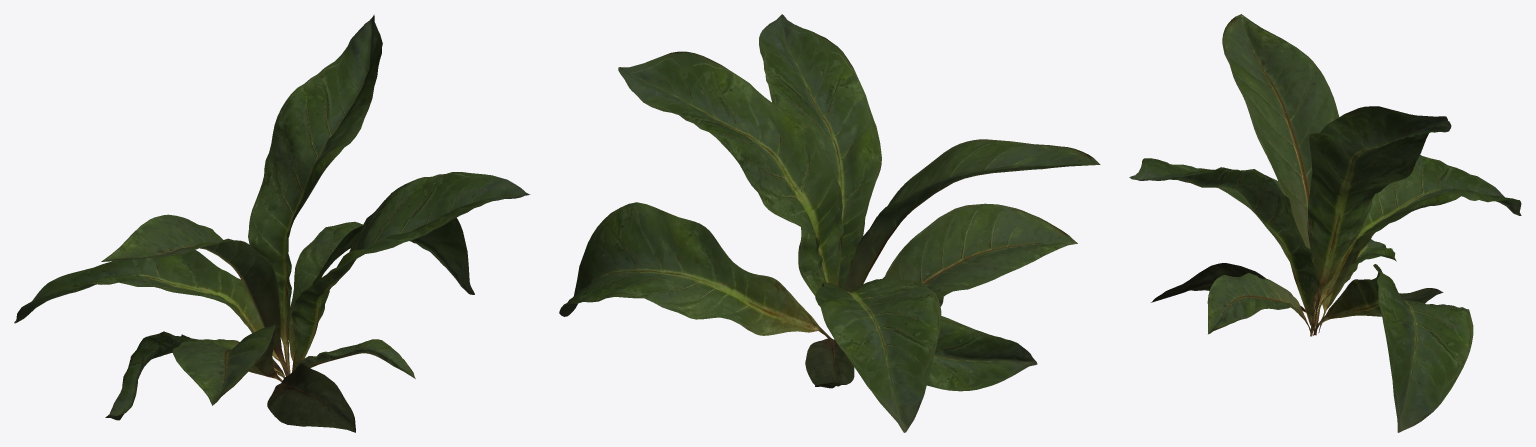
File: ph-anthurium-botany-01.glb
3 renders of one model, left to right at view 1: azimuth 30°, elevation 25°; view 2: azimuth 150°, elevation 25°; view 3: azimuth 270°, elevation 25°, orthographic.
Parts seen in each view (by area): view 1: anthurium_botany_01_b; view 2: anthurium_botany_01_b; view 3: anthurium_botany_01_b.
Boxes of the visible parts, left/top/right/bottom form: anthurium_botany_01_b: left=14, top=14, right=530, bottom=432; anthurium_botany_01_b: left=559, top=14, right=1100, bottom=432; anthurium_botany_01_b: left=1129, top=14, right=1521, bottom=432.
Size of the model in its own units: 0.7563 by 0.4706 by 0.5717.
Materials: 1 (1 with a texture image).
